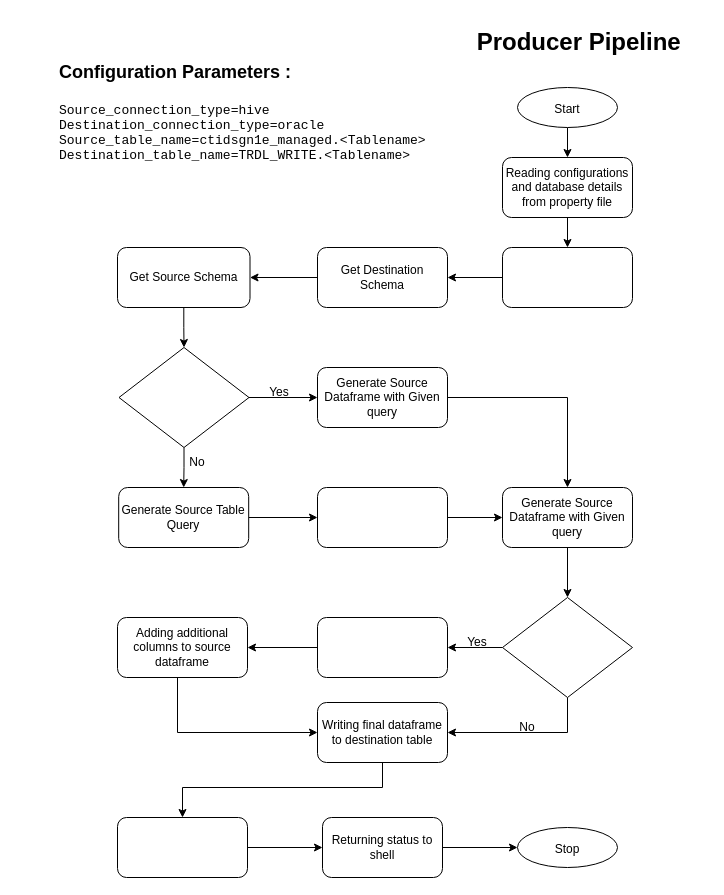
Some shapes in this 724 by 895 pixel diagram are drawn without their labels. The shapes that lost their labels are listed below. From the top down, each one's centre as x and y in pixels, then its label:
At pixel 567 277: "Passing all the required parameters to Scala".
At pixel 183 397: "Check for query parameter".
At pixel 382 517: "Generate source dataframe with generated query".
At pixel 382 647: "Producer table check for additional columns detail".
At pixel 567 647: "Check for extra columns".
At pixel 182 847: "Audit and Monitoring Entry".
